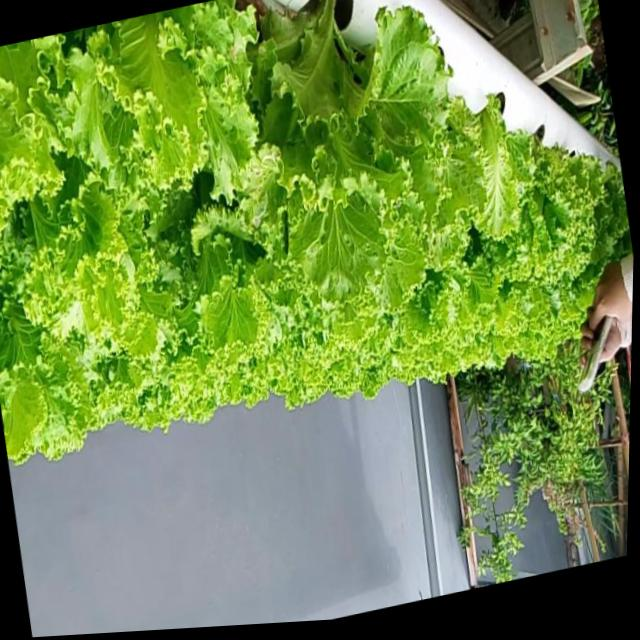Mature: (0, 0, 633, 467), (244, 0, 441, 292), (472, 113, 624, 319)
